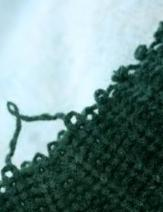snag: (6, 94, 74, 175)
